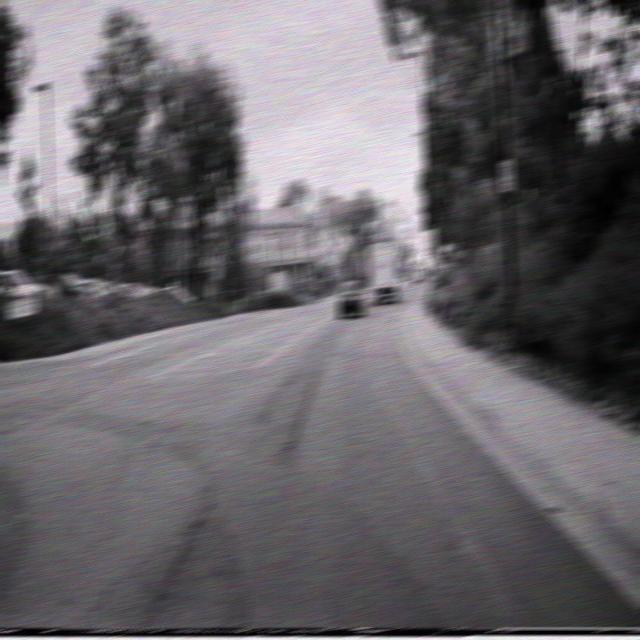speedLimit25: (422, 228, 437, 265)
